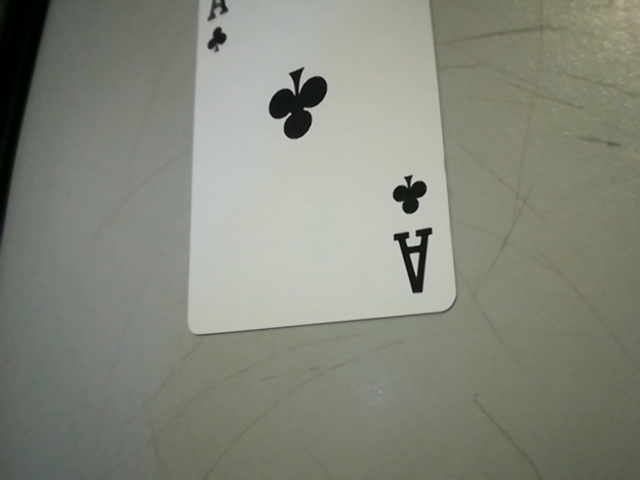mh a: (376, 161, 442, 308)
